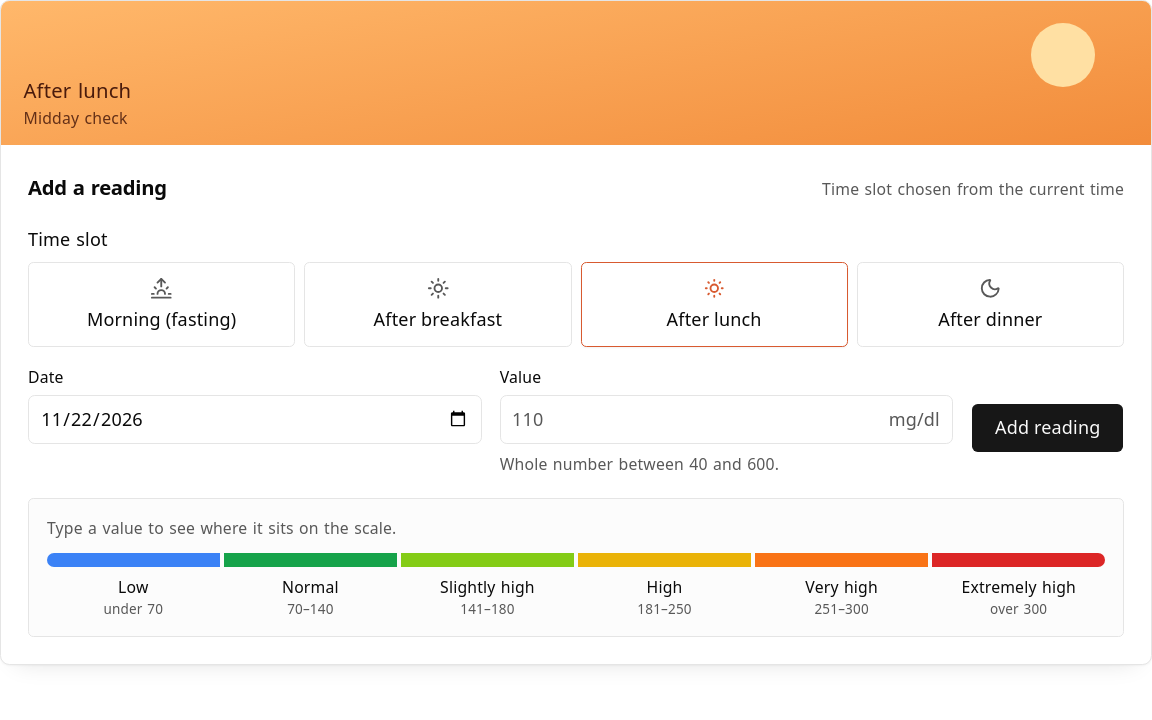
Scenario: AddReadingCard: time slots and the colour scale › marks the clicked slot as selected
The image size is (1152, 720).
Click the button "After dinner" at (990, 305), box [857,262,1124,347]
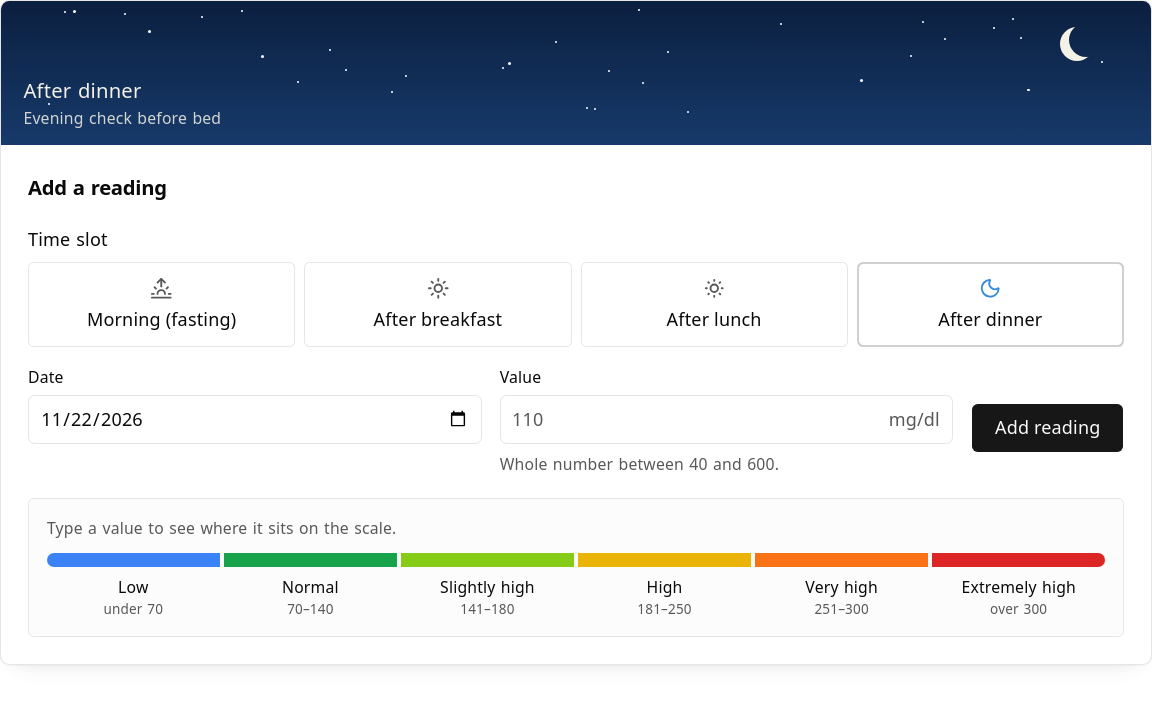
Now the button "After dinner" is pressed, box [857,262,1124,347]
Now the button "After lunch" is not pressed, box [580,262,848,347]
